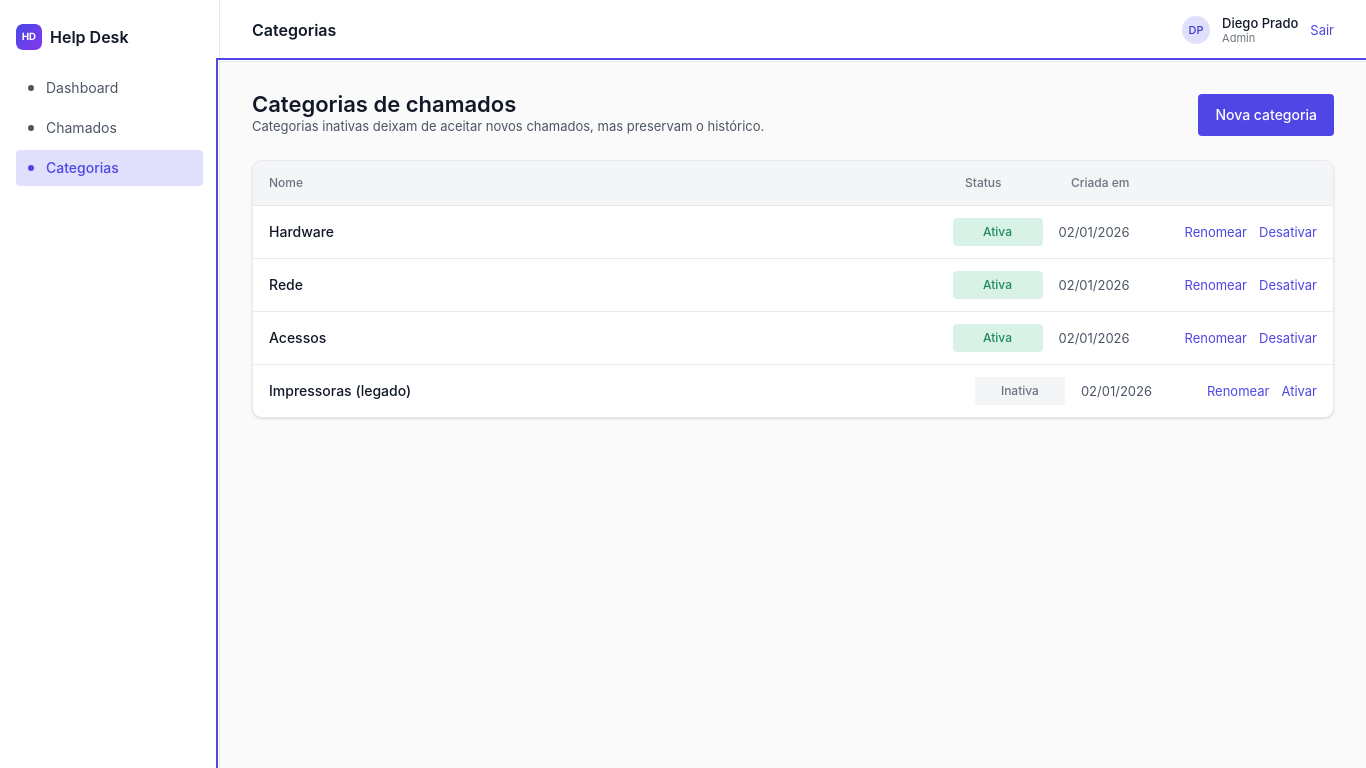
Test: CategoriesAdminPage — Admin › renomeia uma categoria
Check: the text "Rede" is shown, box [269,276,303,293]
Click the button "Renomear" in the row of "Rede": click(1216, 285) [1184,275,1247,295]
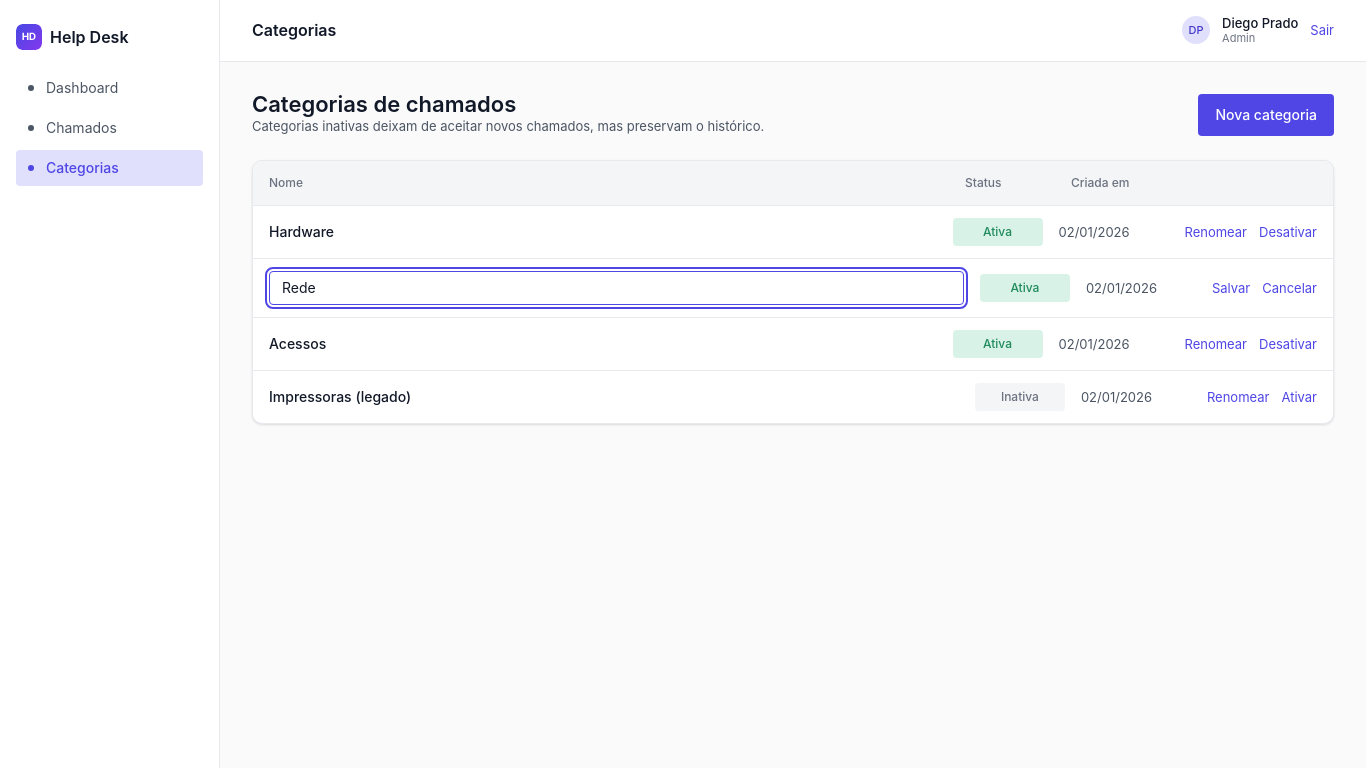
Replace the text in the field named "Novo nome para Rede" with "Infraestrutura de Rede": (616, 288) [269,271,964,305]
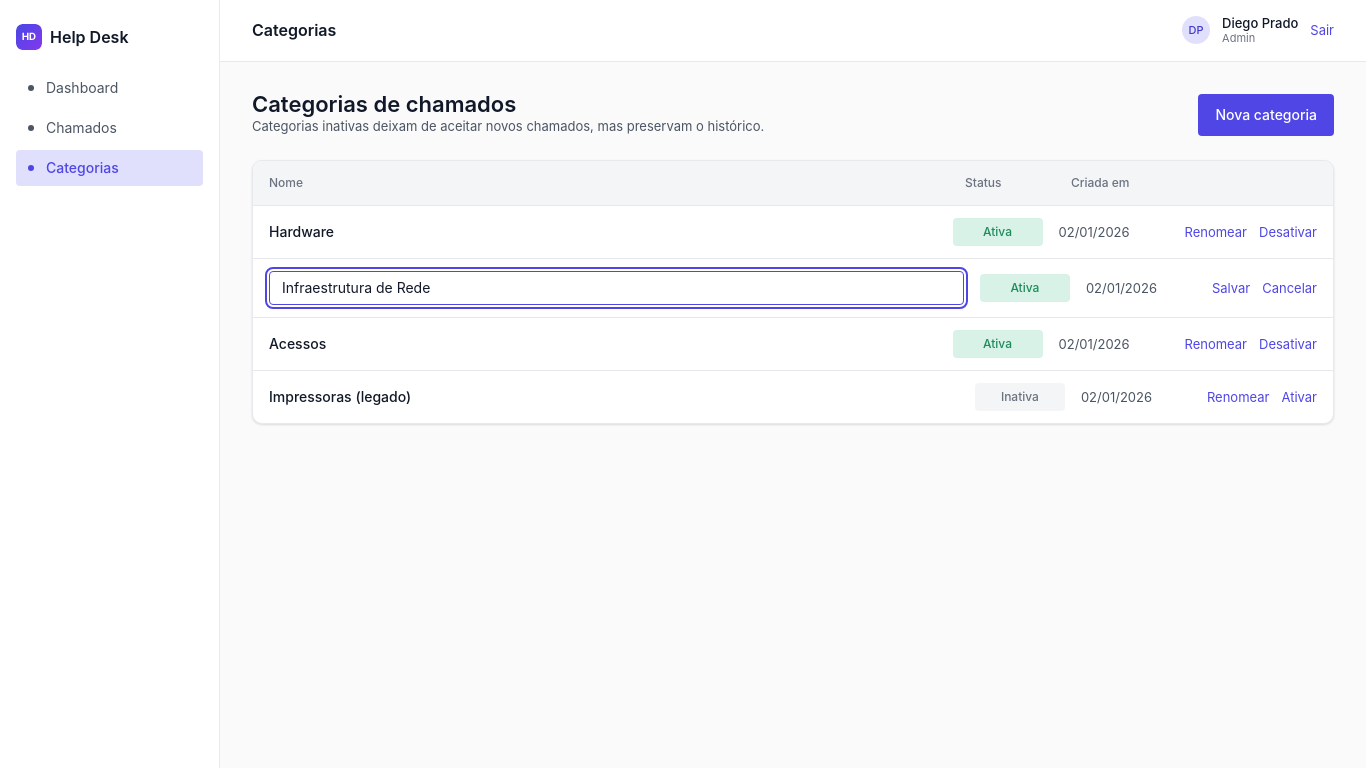
Click the button "Salvar": click(1231, 288) [1212,278,1250,298]
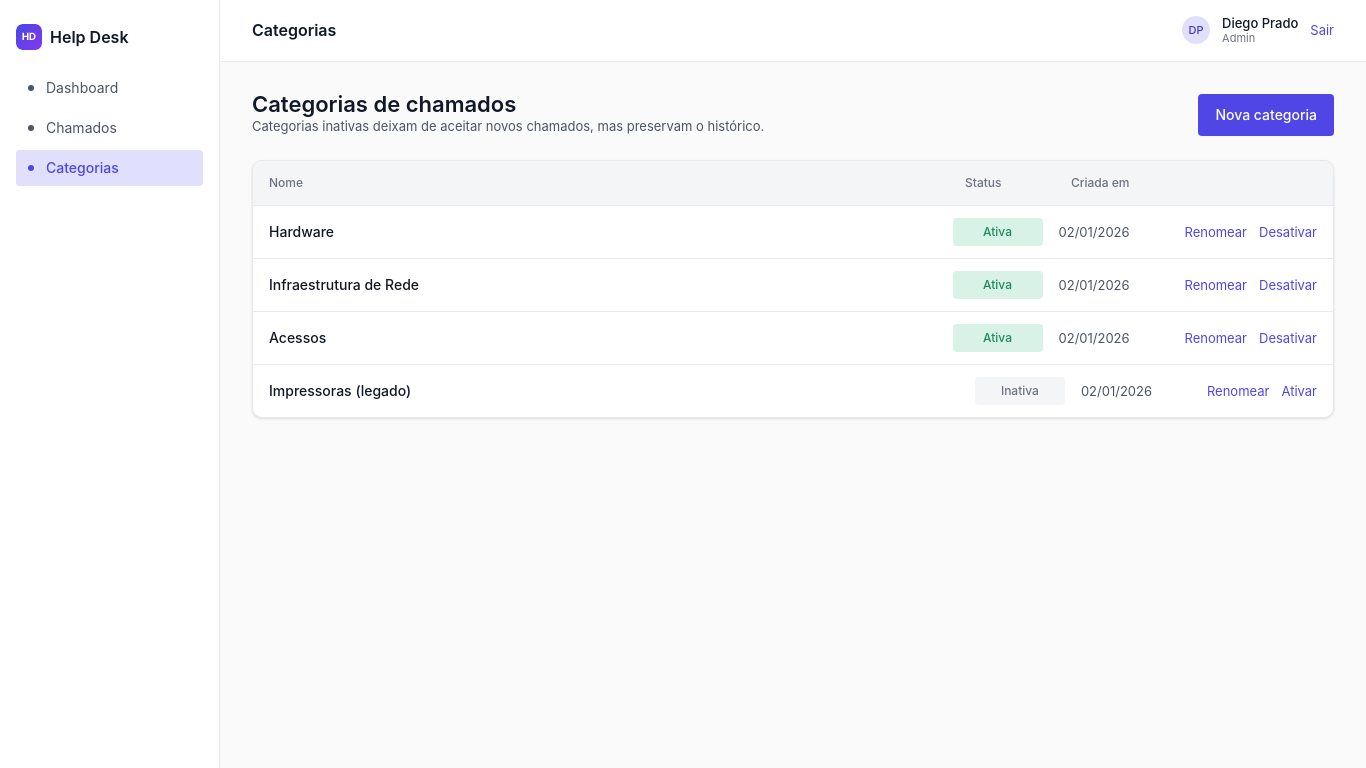
Check: the text "Infraestrutura de Rede" is shown, box [269,276,419,293]
